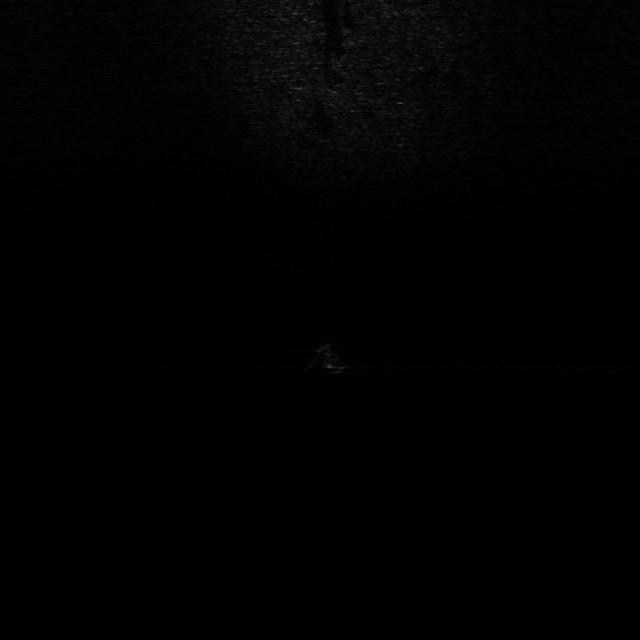human body: (310, 337, 350, 385)
